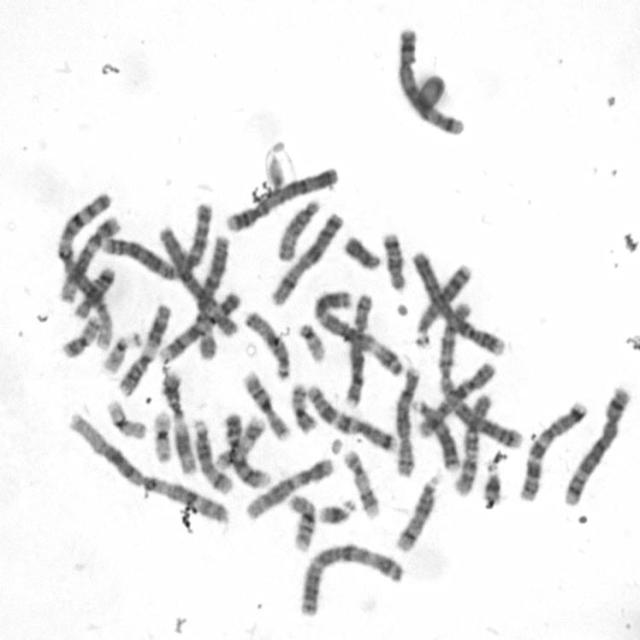A1: (65, 408, 233, 527), (54, 181, 118, 352)
A2: (434, 297, 524, 451), (99, 199, 215, 282)
A3: (295, 538, 407, 618), (309, 285, 405, 378)
B4: (409, 248, 507, 358), (222, 163, 340, 234)
B5: (560, 383, 632, 507), (392, 22, 465, 138)
C10: (415, 361, 498, 443), (450, 389, 494, 497)
C11: (114, 300, 172, 398), (160, 372, 198, 478)
C12: (53, 213, 122, 308), (241, 454, 335, 520)
C6: (155, 222, 239, 340), (193, 235, 230, 362)
C7: (516, 397, 589, 504), (304, 381, 398, 453)
C8: (341, 289, 375, 408), (392, 362, 421, 480)
C9: (155, 288, 243, 365), (222, 410, 272, 488)
D13: (410, 260, 475, 347), (409, 396, 460, 472)
D14: (391, 471, 442, 554), (190, 414, 234, 495)
D15: (241, 307, 292, 379), (273, 195, 322, 263)
E16: (239, 368, 291, 442), (285, 492, 317, 554)
E17: (214, 414, 268, 471), (340, 446, 380, 522)
E18: (71, 261, 116, 319), (379, 228, 407, 292)
F19: (104, 395, 148, 433), (150, 407, 173, 460)
F20: (59, 312, 102, 358), (288, 379, 320, 434)
G21: (316, 496, 356, 526), (482, 464, 502, 504)
G22: (98, 332, 142, 374), (296, 319, 325, 364)
X: (267, 210, 346, 308)
Y: (341, 232, 384, 272)
